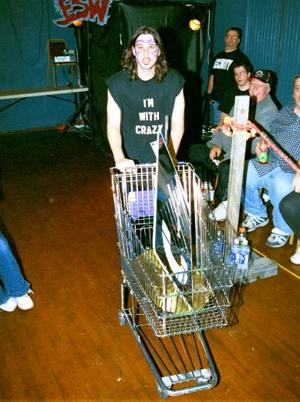person: (106, 25, 187, 285)
